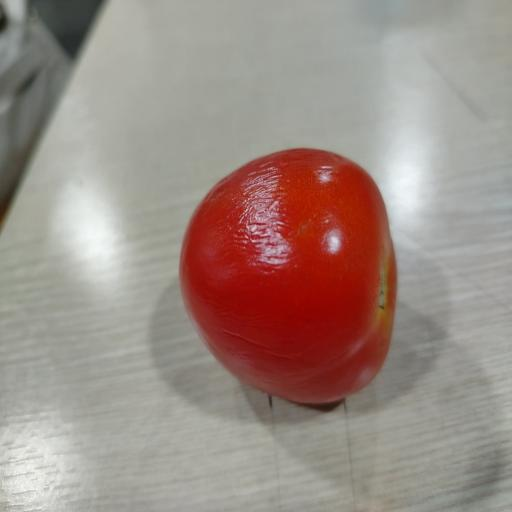overipe: (179, 148, 397, 403)
